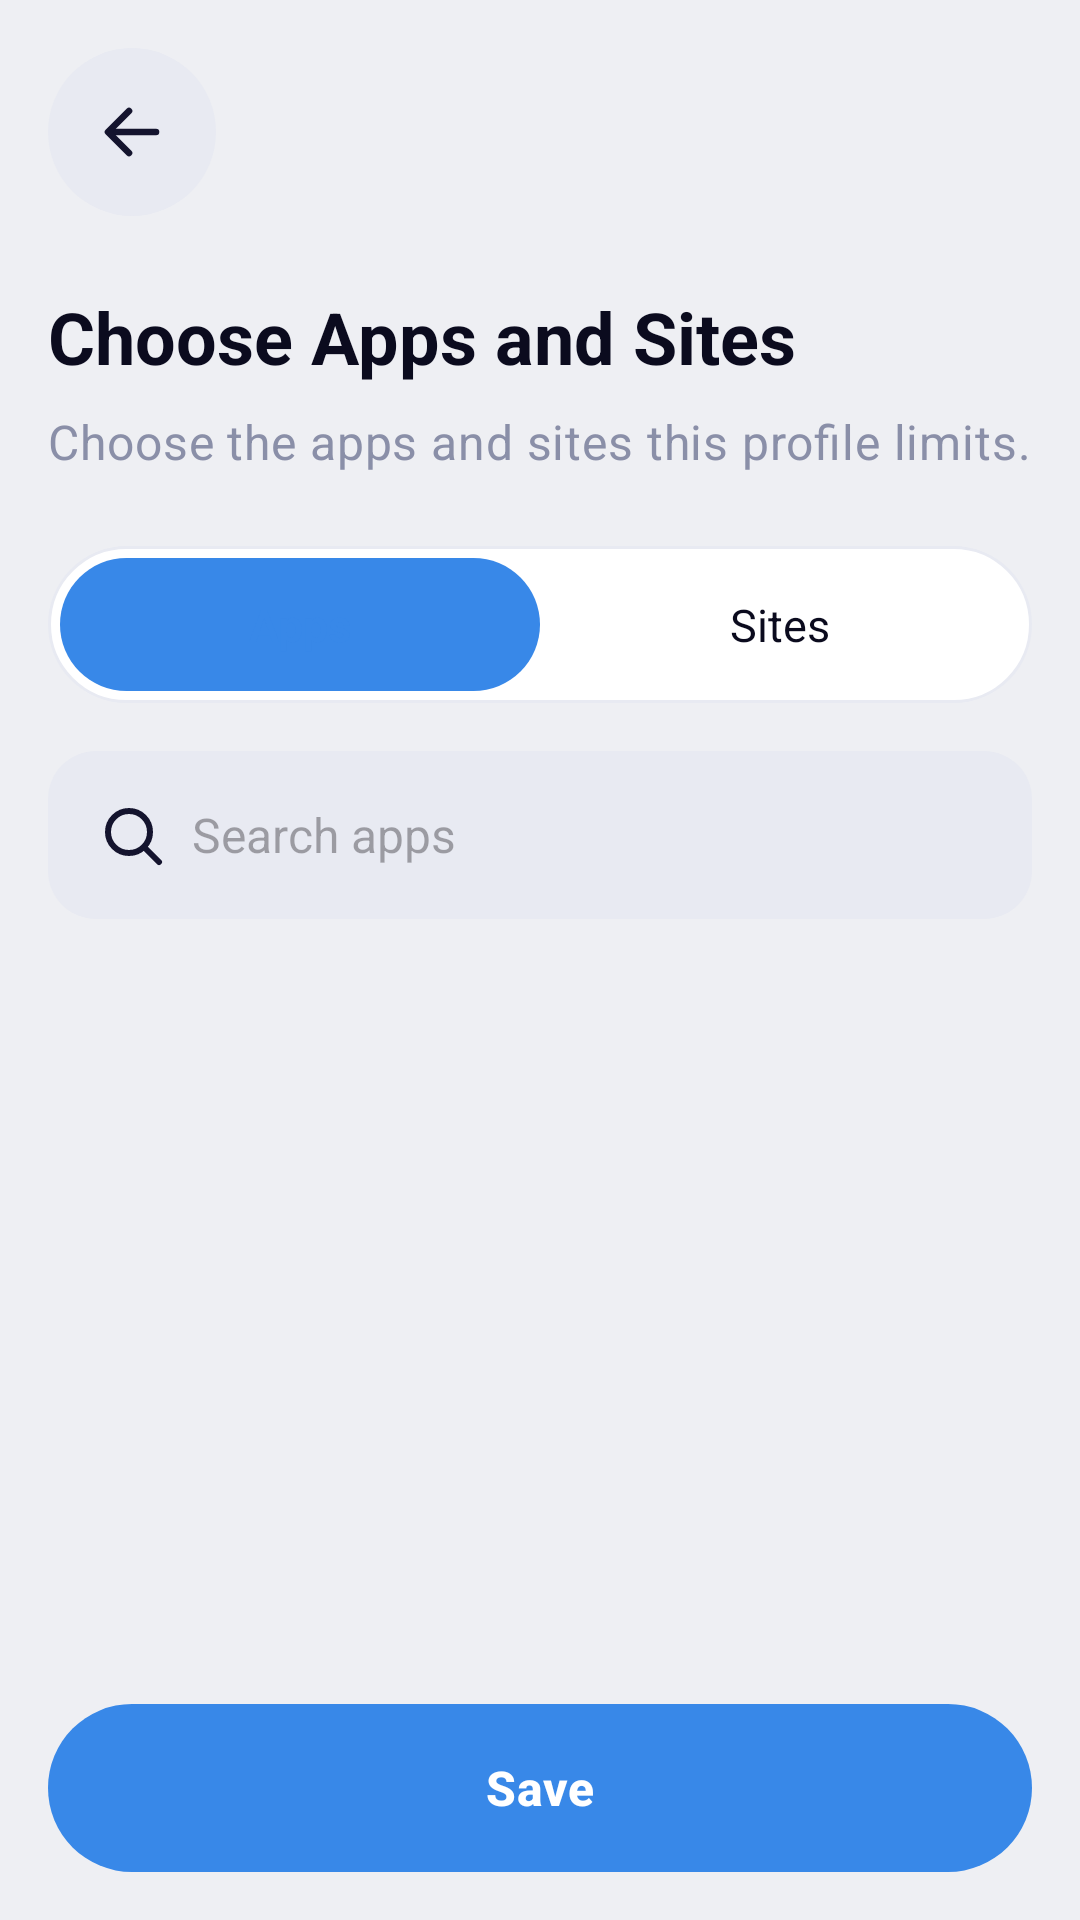

Icon bounding boxes for this 1080px×1920px phone screenshot, format {"left": x1, "top": y1, "right": x2, "bottom": y2}:
Back: {"left": 104, "top": 107, "right": 160, "bottom": 157}
